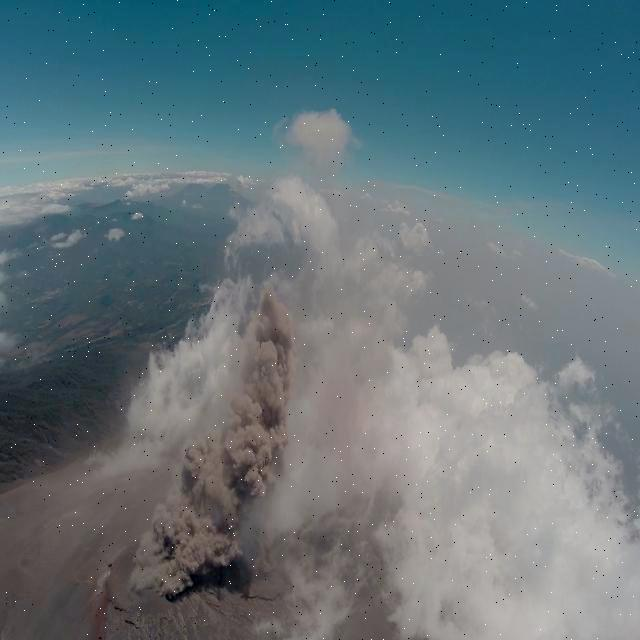Plume: (134, 276, 298, 594)
Summit: (76, 493, 292, 640)
